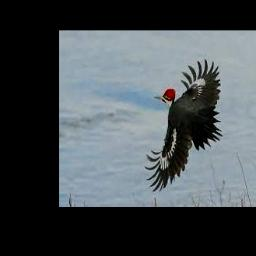Woodpecker: (144, 58, 223, 191)
